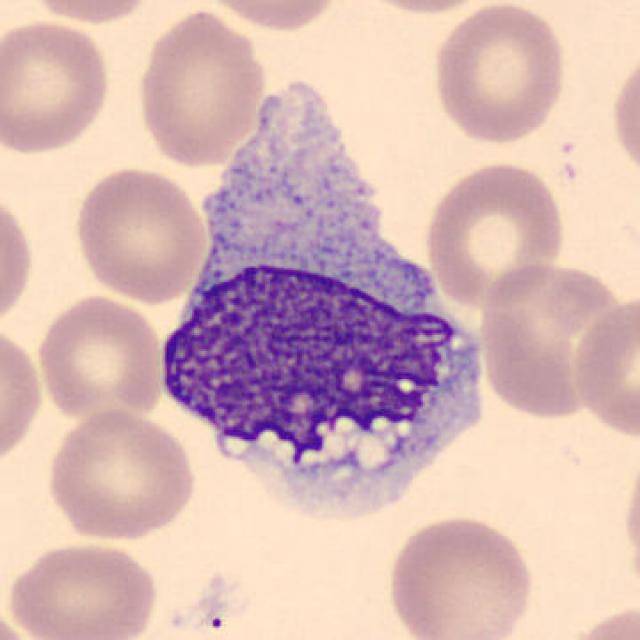Monocyte: (151, 62, 493, 545)
RBC: (473, 259, 629, 422), (132, 5, 270, 171), (421, 157, 569, 310), (41, 405, 199, 545), (428, 0, 570, 146), (382, 511, 539, 640), (71, 162, 210, 305), (32, 291, 167, 425), (0, 14, 116, 159), (2, 536, 160, 640), (569, 289, 640, 443), (0, 321, 46, 476), (0, 185, 37, 336), (195, 0, 346, 33), (606, 48, 640, 185), (18, 0, 162, 26), (618, 440, 640, 590), (562, 599, 640, 640), (347, 0, 501, 16)
